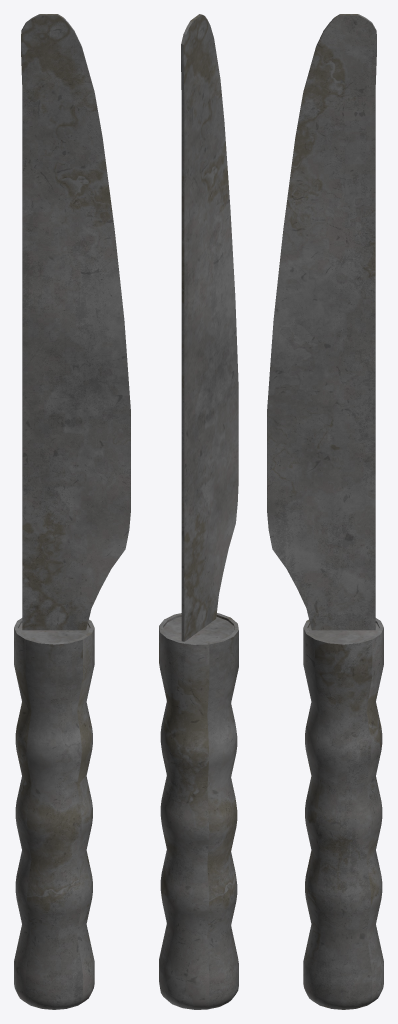
The model's file is knife.glb.
3 renders of one model, left to right at view 1: azimuth 90°, elevation 25°; view 2: azimuth 150°, elevation 25°; view 3: azimuth 270°, elevation 25°, orthographic.
Parts seen in each view (by area): view 1: knife; view 2: knife; view 3: knife.
Part boxes in pixels (left/top/right/bottom): knife: left=14, top=14, right=130, bottom=1009; knife: left=159, top=14, right=238, bottom=1009; knife: left=267, top=14, right=383, bottom=1009.
Size of the model in its own units: 0.0112 by 0.1503 by 0.0162.
Materials: 1 (1 with a texture image).
